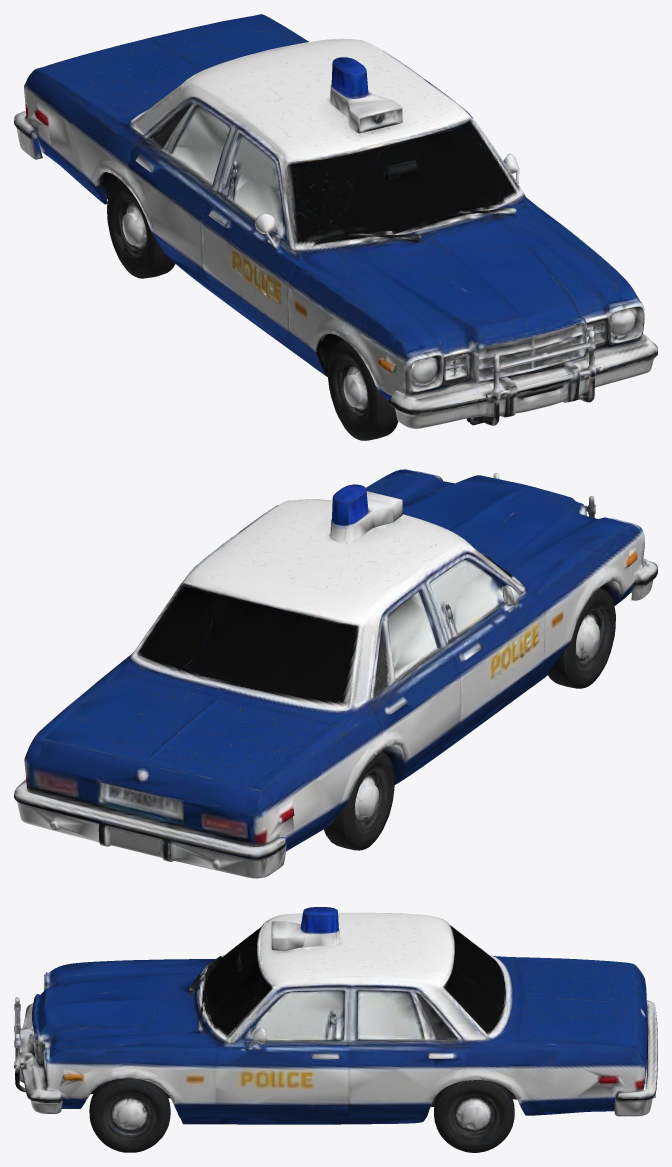
File: police.glb
The picture shows the model from 3 angles, top to bottom: view 1: azimuth 30°, elevation 25°; view 2: azimuth 150°, elevation 25°; view 3: azimuth 270°, elevation 25°; orthographic projection. The views are drawn at different scales.
Visible parts, largest first — view 1: node_0; view 2: node_0; view 3: node_0.
Part boxes in pixels (left/top/right/bottom): node_0: left=14, top=14, right=657, bottom=440; node_0: left=14, top=469, right=657, bottom=878; node_0: left=14, top=907, right=657, bottom=1152.
Size of the model in its own units: 0.4231 by 0.3874 by 1.14.
1 material, 1 textured.
